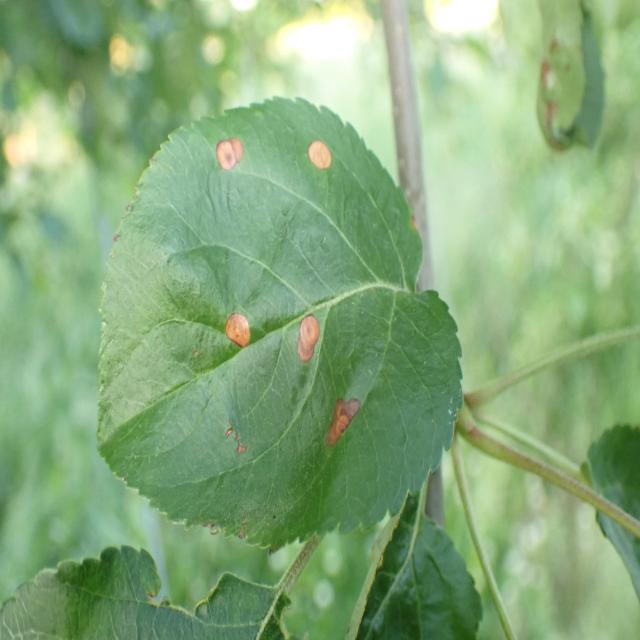Black Rot: (308, 390, 366, 453), (284, 304, 336, 368), (213, 301, 264, 362), (223, 407, 254, 472), (212, 126, 250, 178), (307, 131, 339, 185)
